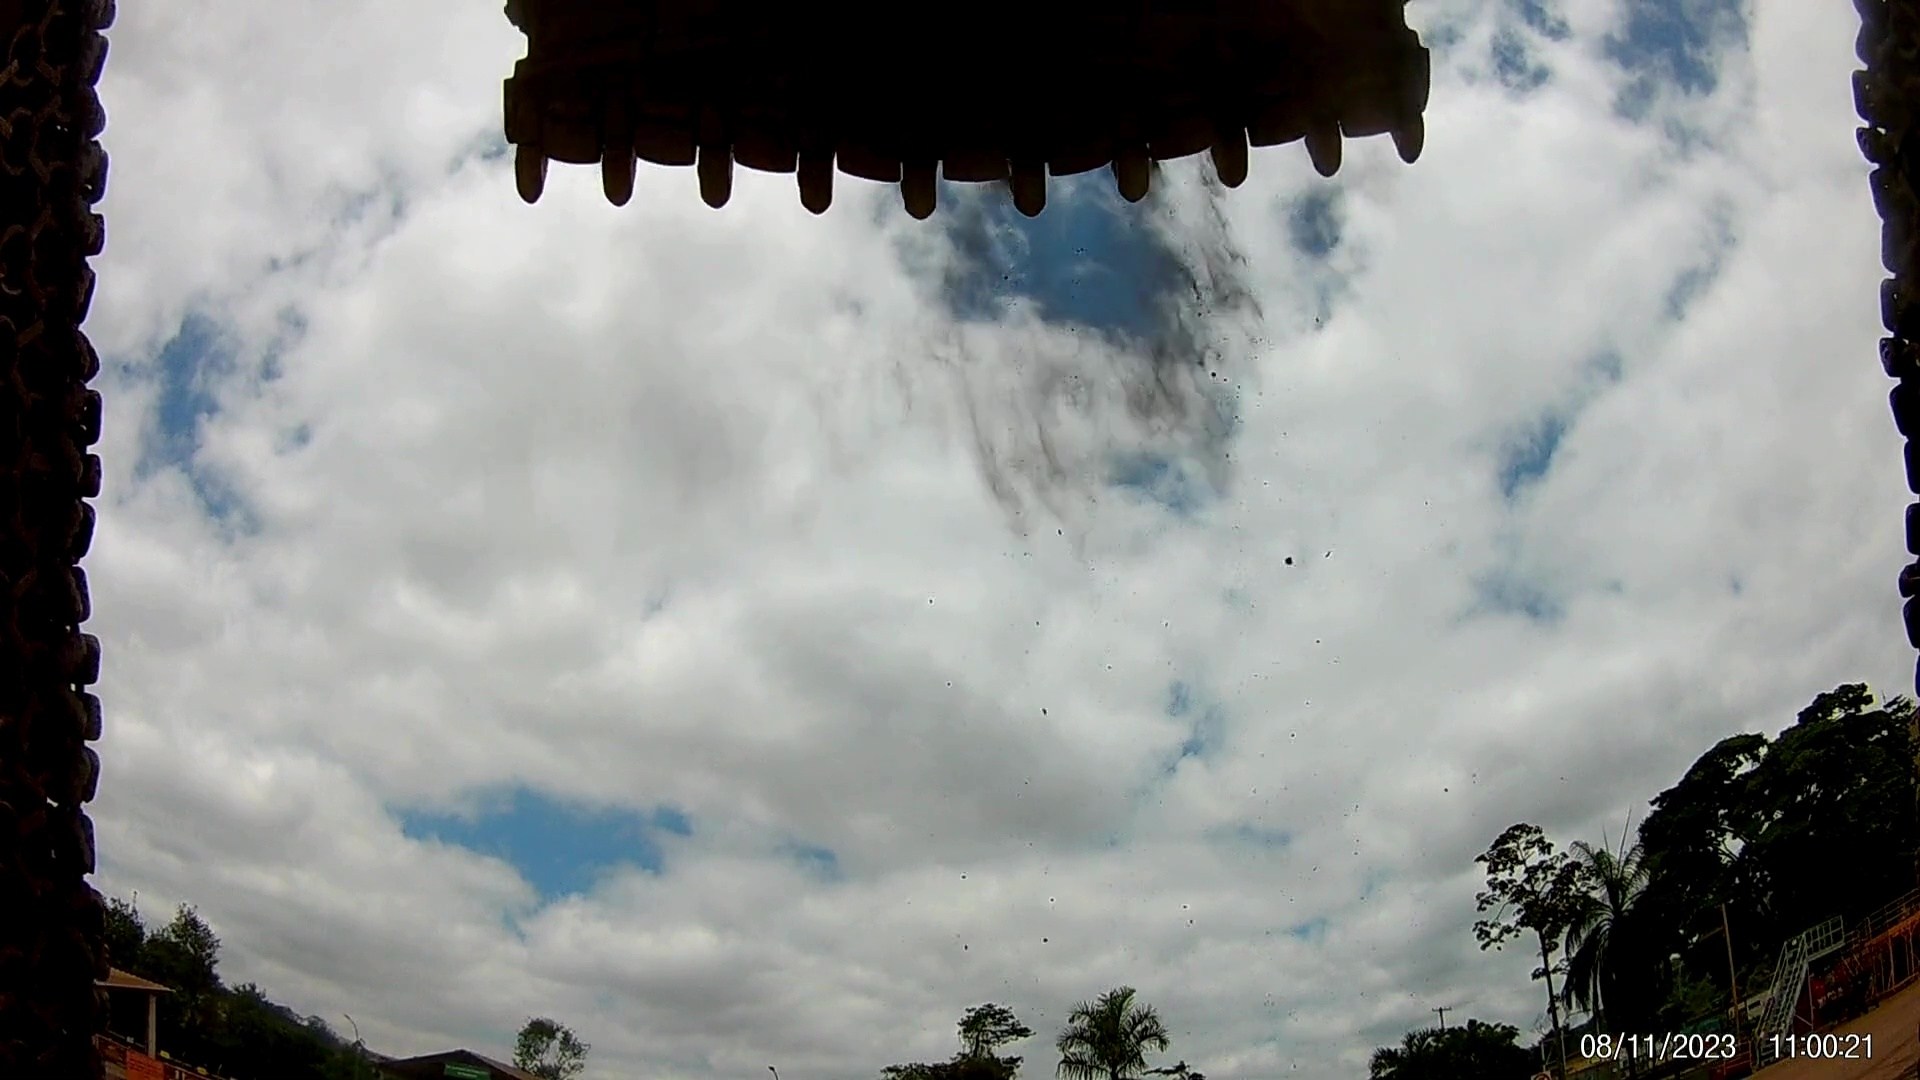FPS: (1101, 131, 1166, 215), (1282, 119, 1356, 193), (694, 141, 764, 212), (1367, 115, 1447, 174), (897, 148, 957, 224), (794, 145, 851, 225), (483, 153, 558, 212), (585, 165, 658, 224), (1218, 119, 1261, 195), (1011, 150, 1048, 225)
